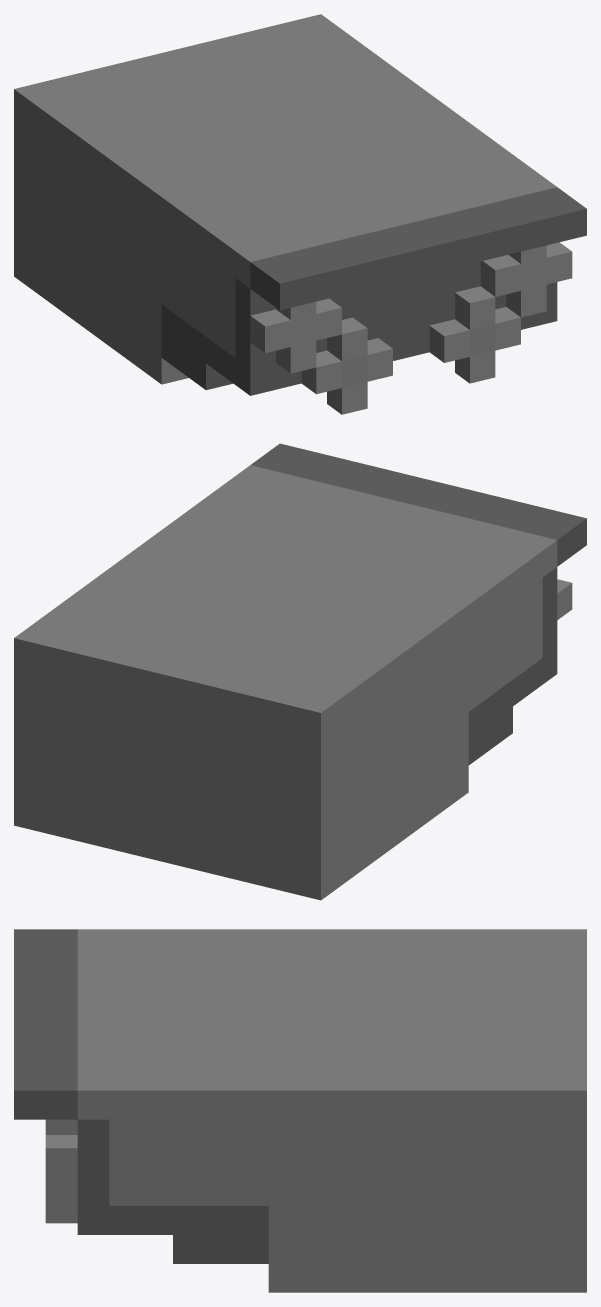
The model's file is Body-23-Warship_CanonShaft.obj.
The picture shows the model from 3 angles, top to bottom: view 1: azimuth 30°, elevation 25°; view 2: azimuth 150°, elevation 25°; view 3: azimuth 270°, elevation 25°; orthographic projection. The views are drawn at different scales.
Visible parts, largest first — view 1: Warship_CanonShaft; view 2: Warship_CanonShaft; view 3: Warship_CanonShaft.
Boxes of the visible parts, bbox=[...] form: Warship_CanonShaft: bbox=[14, 14, 586, 414]; Warship_CanonShaft: bbox=[14, 443, 586, 900]; Warship_CanonShaft: bbox=[14, 929, 586, 1292].
Bounding box in the file's own units: 1.2 × 0.7 × 1.8.
Materials: 1 (1 with a texture image).
